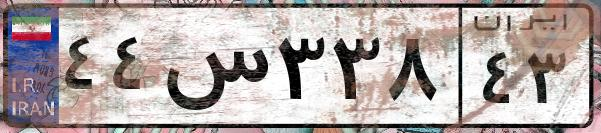3: (270, 28, 330, 110), (330, 28, 385, 110), (525, 38, 570, 115)
4: (57, 26, 110, 100), (475, 38, 525, 113), (110, 28, 158, 98)
8: (385, 28, 445, 110)
س: (158, 20, 270, 120)
